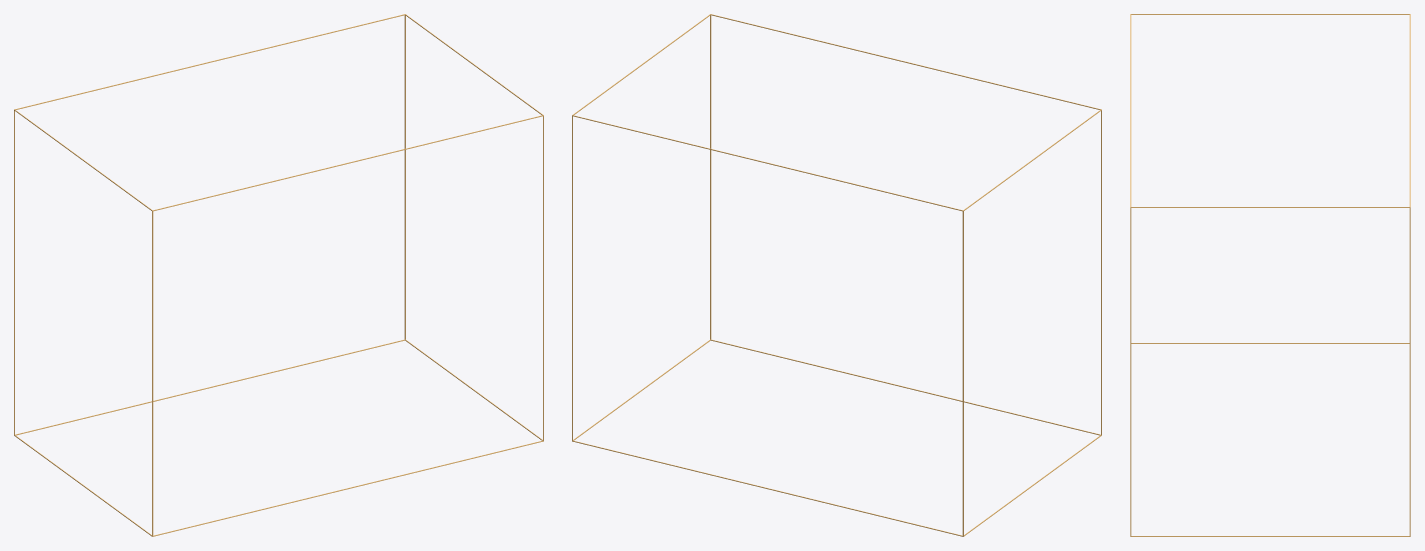
The model's file is parachutes.glb.
The picture shows the model from 3 angles, left to right: view 1: azimuth 30°, elevation 25°; view 2: azimuth 150°, elevation 25°; view 3: azimuth 270°, elevation 25°; orthographic projection.
Visible parts, largest first — view 1: box_0; view 2: box_0; view 3: box_0.
Boxes of the visible parts, <box> form: box_0: <box>14,14,543,536</box>; box_0: <box>572,14,1101,536</box>; box_0: <box>1130,14,1410,536</box>.
Size of the model in its own units: 5.52 by 4.39 by 3.38.
